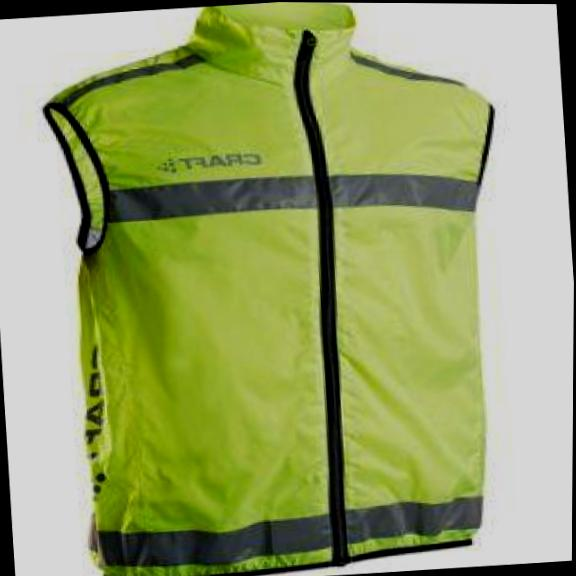safety_vest: (37, 0, 534, 576)
